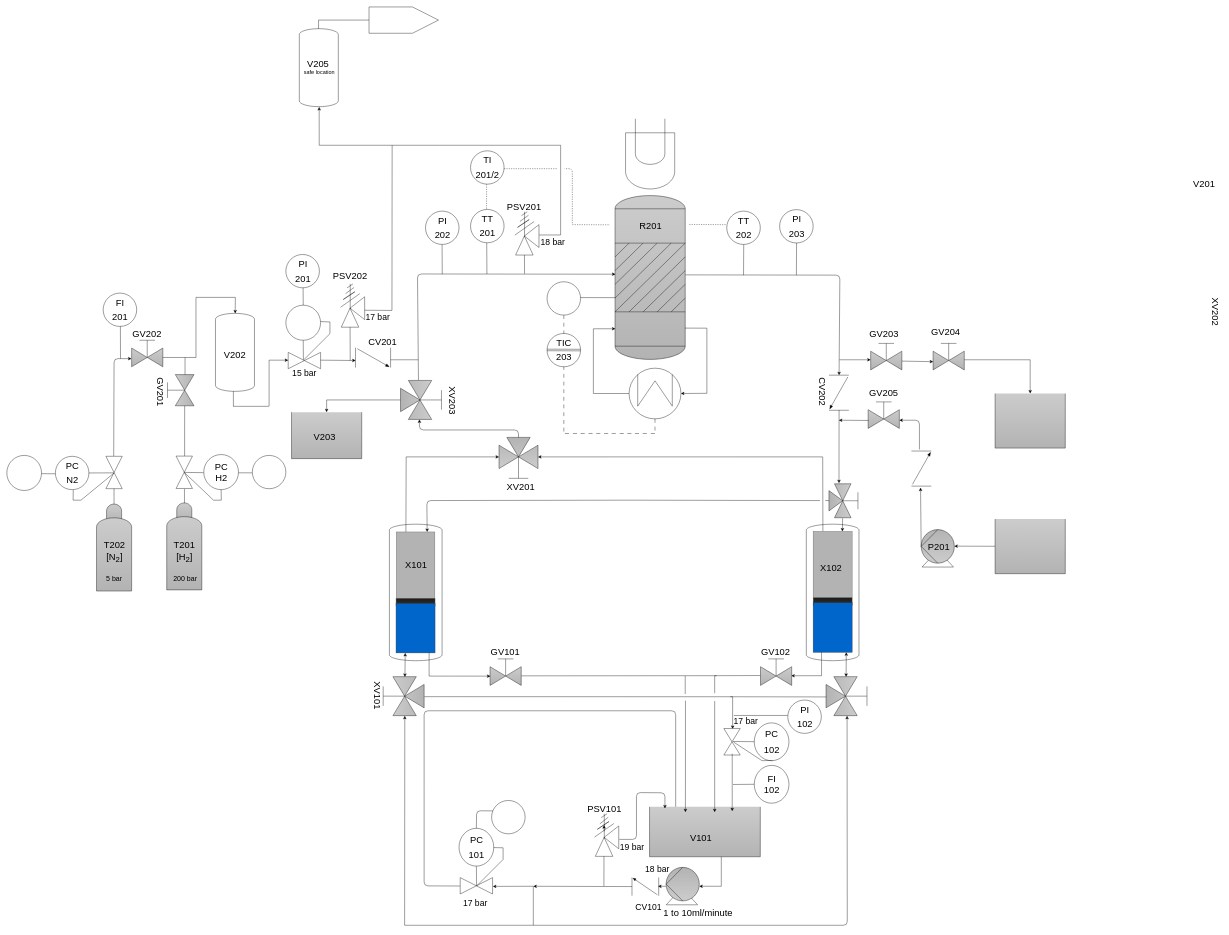
The diagram is 1229 pixels wide and 935 high, and some of its shapes have lost their labels. The centre of each missing label's shape, as x and y in pixels:
Fume hood [atm]: point (403, 20)
H201: point (655, 393)
LED 201: point (650, 153)
P101: point (682, 884)
PC 201: point (303, 322)
PI 101: point (508, 817)
PI H2: point (269, 472)
PI N2: point (24, 473)
TT 203: point (564, 298)
V204: point (1030, 546)
XV102: point (849, 696)
